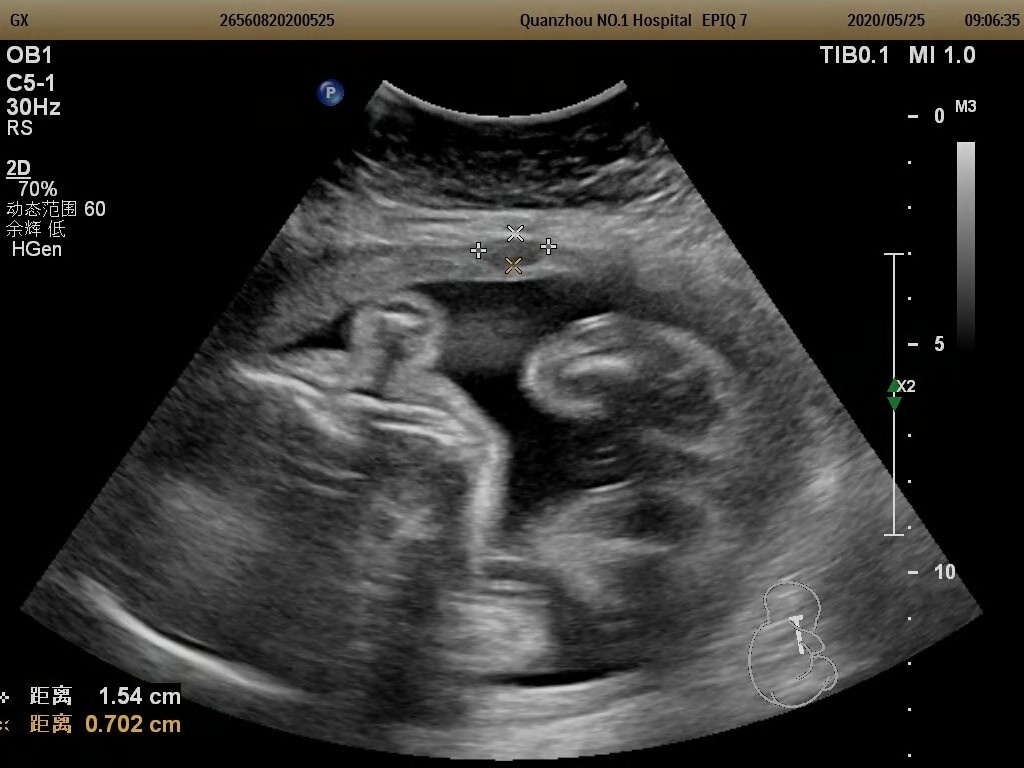肌瘤: (477, 233, 551, 265)
